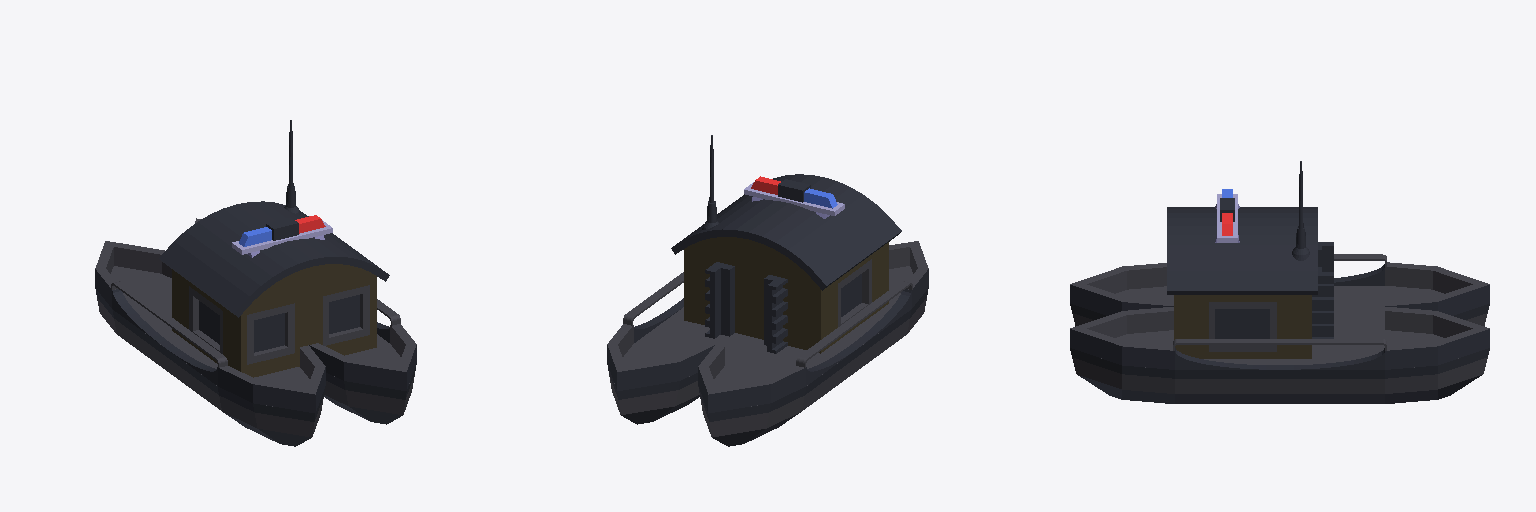
The model's file is Boat7.obj.
3 views of the same model, side by side, from view 1: azimuth 30°, elevation 25°; view 2: azimuth 150°, elevation 25°; view 3: azimuth 270°, elevation 25° (orthographic).
Visible parts, largest first — view 1: diesel_cabin_square, hull_halfFront, rail_front, hull_half, detail_sirenDouble, halfPipe_half, detail_fence_center, detail_fence_side, detail_antenna; view 2: diesel_cabin_square, rail_front, hull_halfFront, hull_half, track_center, detail_sirenDouble, halfPipe_half, detail_fence_center, detail_fence_side, detail_antenna; view 3: diesel_cabin_square, rail_front, hull_half, hull_halfFront, halfPipe_half, track_center, detail_sirenDouble, detail_fence_center, detail_fence_side, detail_antenna.
Boxes of the visible parts, <box> form: diesel_cabin_square: <box>159,201,389,377</box>; hull_halfFront: <box>95,266,416,446</box>; rail_front: <box>95,218,416,413</box>; hull_half: <box>112,295,389,410</box>; detail_sirenDouble: <box>232,215,332,257</box>; halfPipe_half: <box>112,289,389,385</box>; detail_fence_center: <box>129,292,380,347</box>; detail_fence_side: <box>111,281,400,367</box>; detail_antenna: <box>284,120,300,214</box>; diesel_cabin_square: <box>671,174,901,353</box>; rail_front: <box>607,241,928,413</box>; hull_halfFront: <box>607,266,928,446</box>; hull_half: <box>634,304,911,410</box>; track_center: <box>705,262,787,353</box>; detail_sirenDouble: <box>744,176,844,218</box>; halfPipe_half: <box>634,289,911,385</box>; detail_fence_center: <box>644,272,894,349</box>; detail_fence_side: <box>623,281,912,367</box>; detail_antenna: <box>702,135,718,229</box>; diesel_cabin_square: <box>1167,207,1317,358</box>; rail_front: <box>1070,262,1489,369</box>; hull_half: <box>1175,286,1384,403</box>; hull_halfFront: <box>1070,286,1489,403</box>; halfPipe_half: <box>1175,264,1384,369</box>; track_center: <box>1312,242,1333,338</box>; detail_sirenDouble: <box>1215,189,1239,242</box>; detail_fence_center: <box>1209,254,1353,344</box>; detail_fence_side: <box>1173,254,1386,350</box>; detail_antenna: <box>1292,161,1309,260</box>.
Bounding box in the file's own units: 2 × 2.46 × 4.